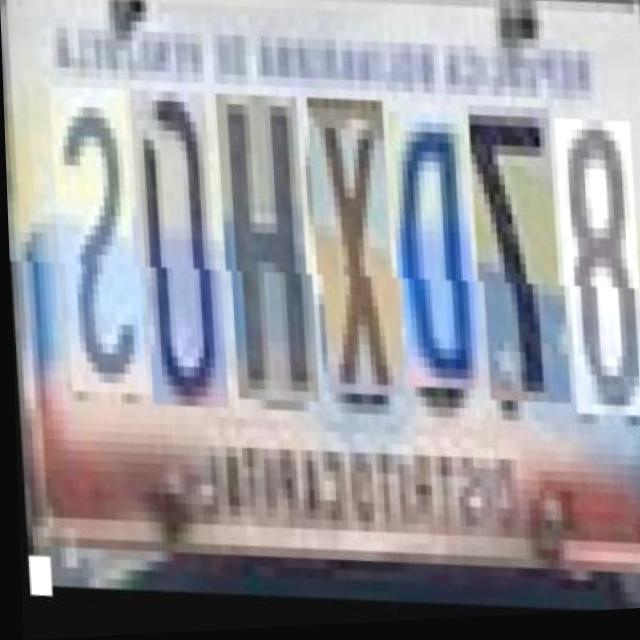0: (128, 99, 218, 422)
7: (465, 111, 561, 415)
8: (553, 123, 640, 427)
d: (386, 118, 474, 403)
h: (214, 101, 310, 417)
s: (48, 96, 137, 410)
x: (305, 105, 394, 409)
